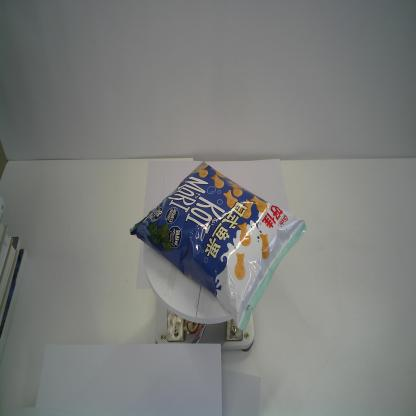Puffed Food: (129, 161, 307, 331)
